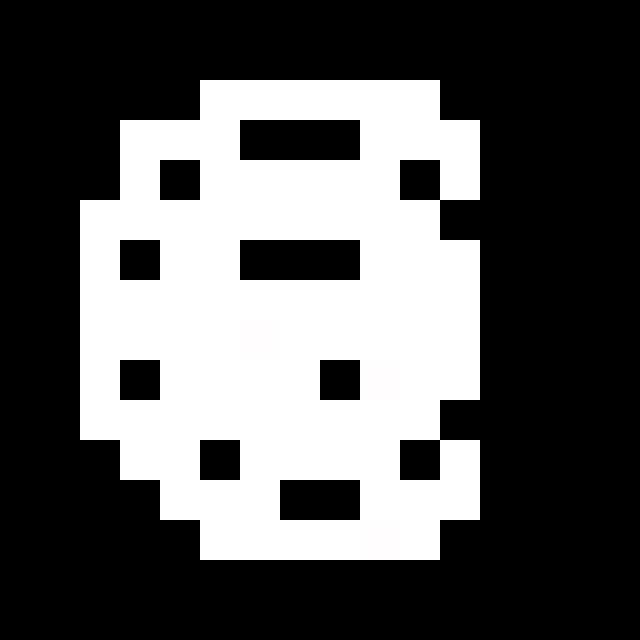Knife: (40, 40, 480, 560)
